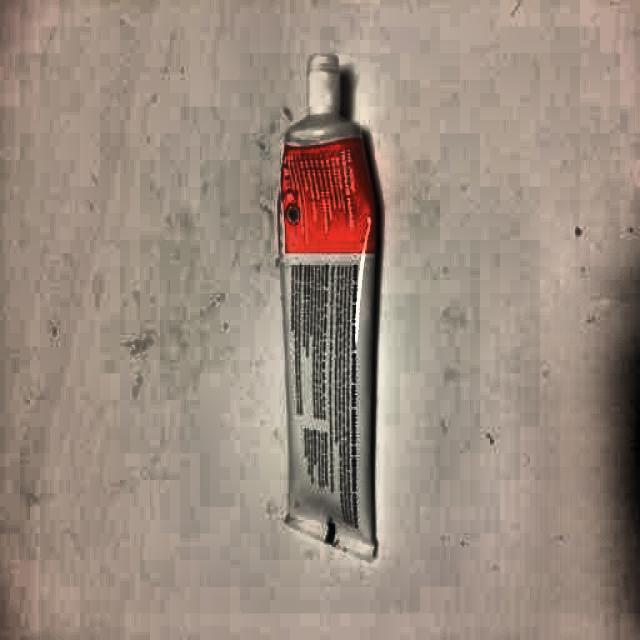trash: (276, 46, 381, 566)
